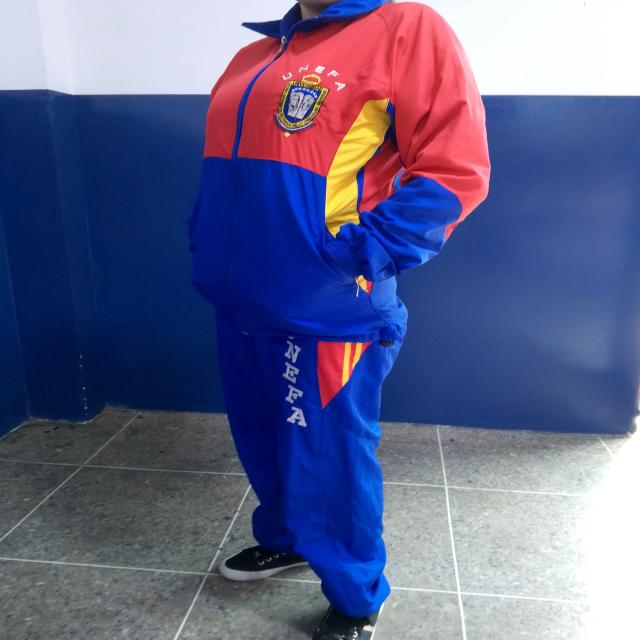chaqueta_unefa: (186, 0, 491, 343)
